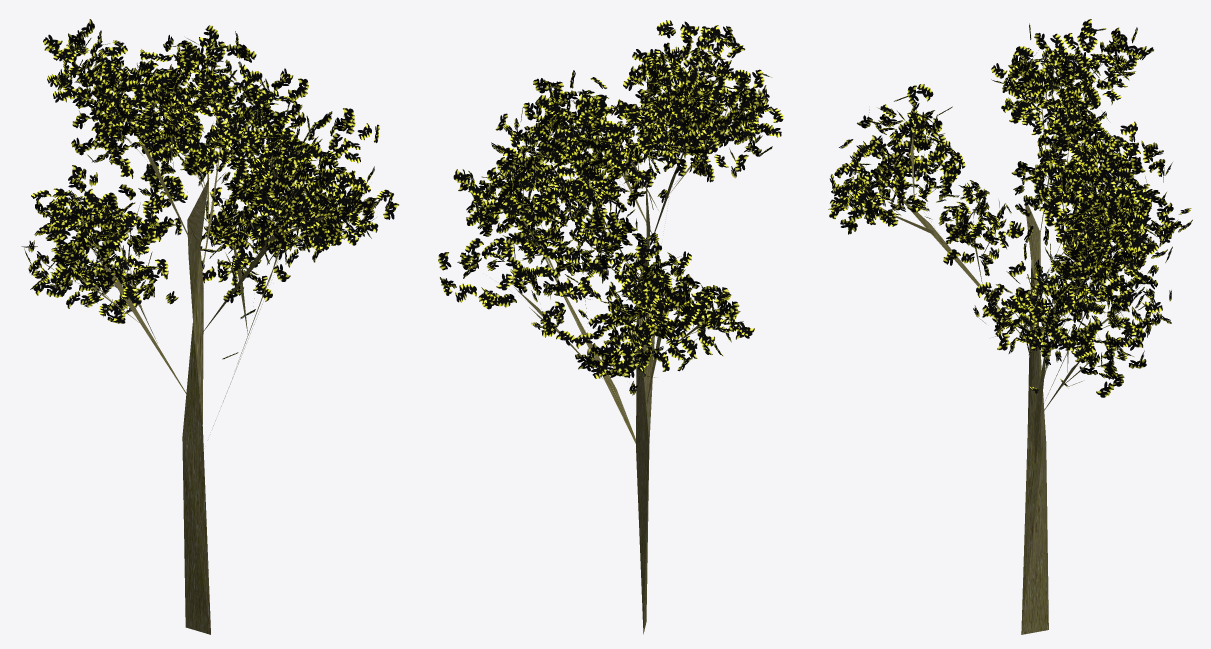
File: cottonwood_river_v02_LOD2.fbx
3 views of the same model, side by side, from view 1: azimuth 30°, elevation 25°; view 2: azimuth 150°, elevation 25°; view 3: azimuth 270°, elevation 25° (orthographic). The views are drawn at different scales.
Visible parts, largest first — view 1: cottonwood_river_v02_LOD2; view 2: cottonwood_river_v02_LOD2; view 3: cottonwood_river_v02_LOD2.
Boxes of the visible parts, <box> form: cottonwood_river_v02_LOD2: <box>21,19,398,634</box>; cottonwood_river_v02_LOD2: <box>438,20,783,634</box>; cottonwood_river_v02_LOD2: <box>828,19,1192,634</box>.
Size of the model in its own units: 1966 by 2007 by 3395.
2 materials, 2 textured.
